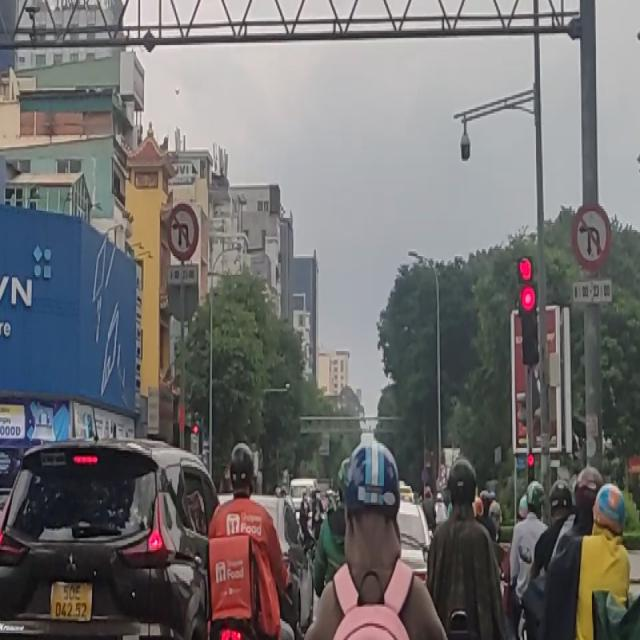Bien bao cam re trai va quay dau: (566, 197, 621, 281), (164, 194, 202, 268)
